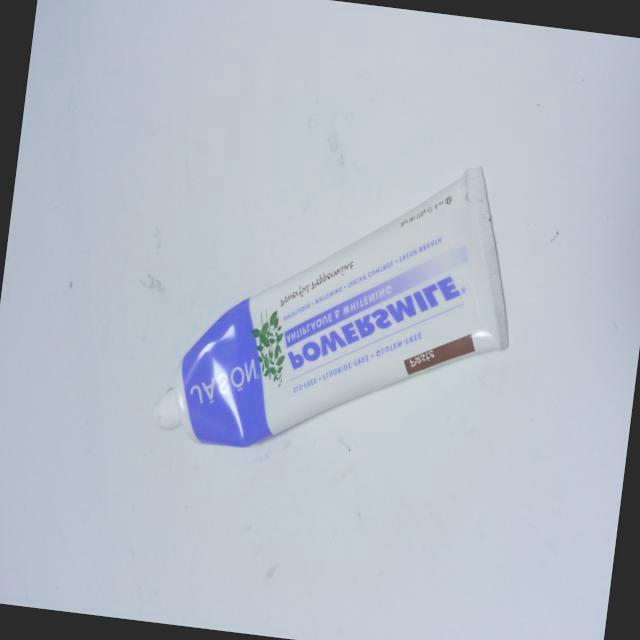plastic: (130, 132, 548, 502)
